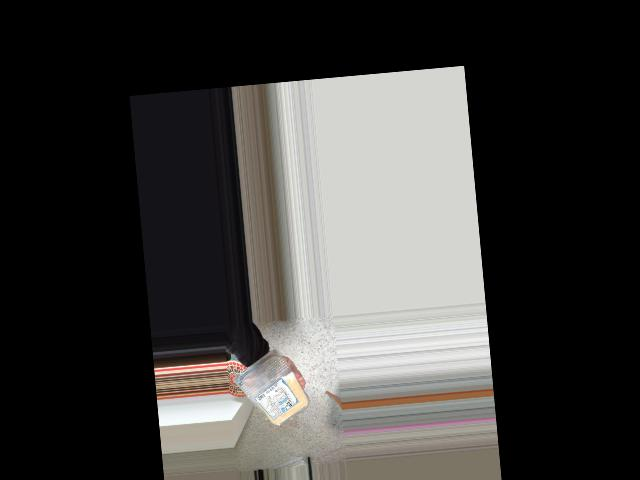cheese: (238, 354, 306, 431)
